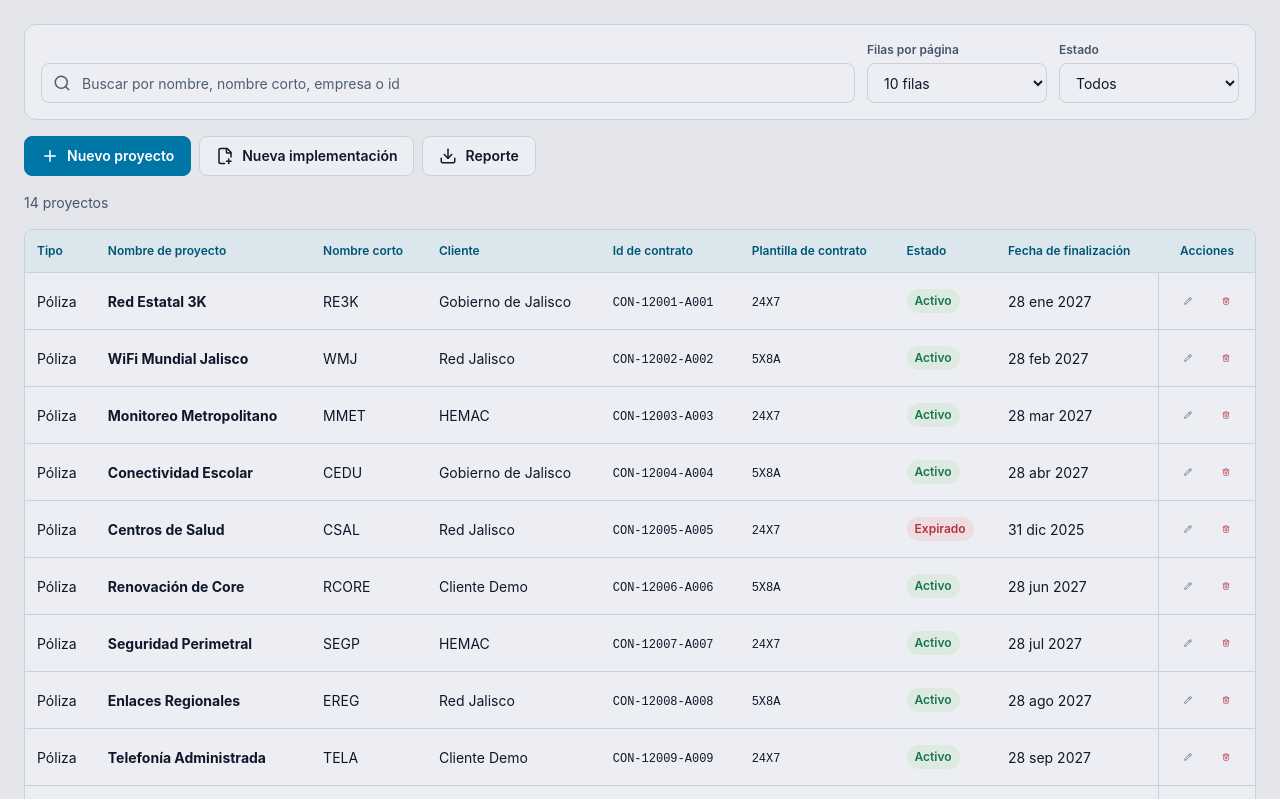
ProjectsPage › filters projects using the search and status controls
Expected: the text "14 proyectos" is shown, [24,194,108,211]
Type "WiFi Mundial" into the search field named "Buscar proyectos" at [448, 83], box [41,63,855,103]
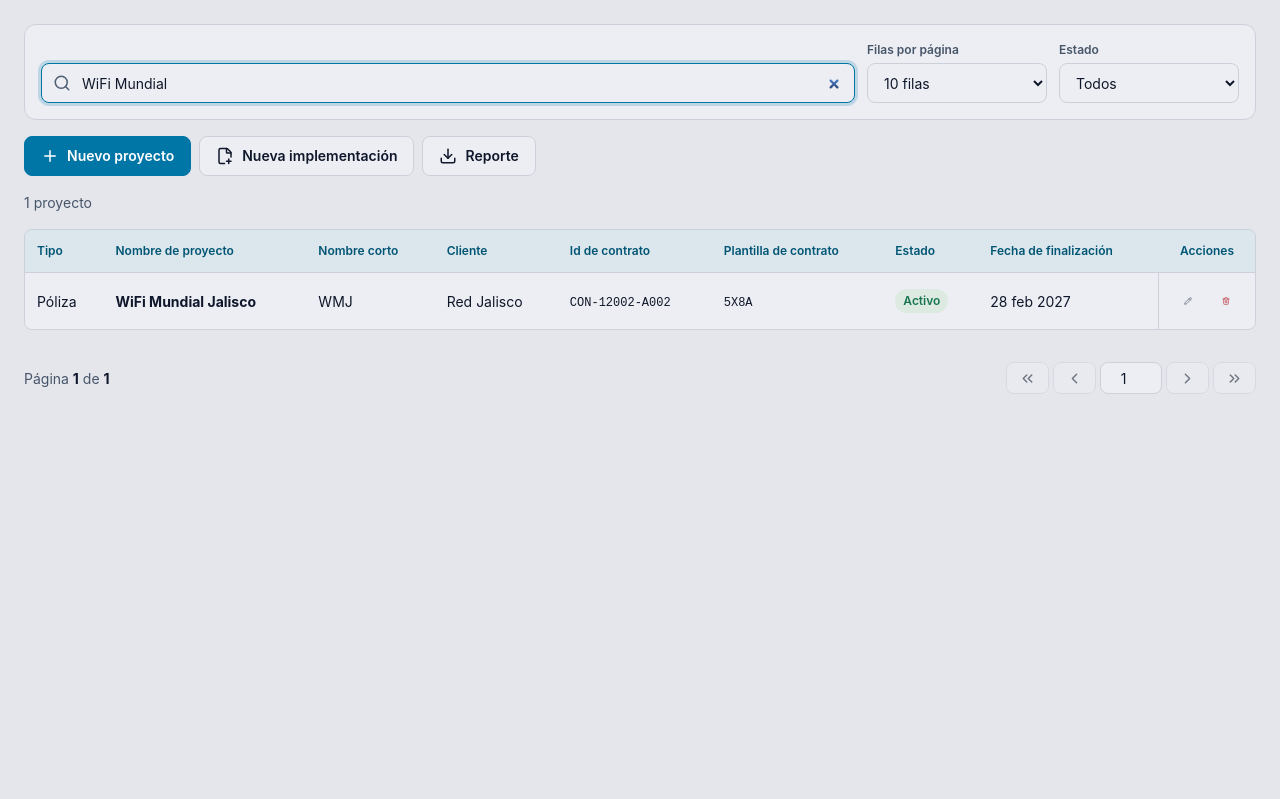
Result: the text "1 proyecto" is shown at [24,194,92,211]
Result: the text "WiFi Mundial Jalisco" is shown 2 times
Select "Expirado" in the dropdown labelled "Estado" at [1149, 83], box [1059,63,1239,103]
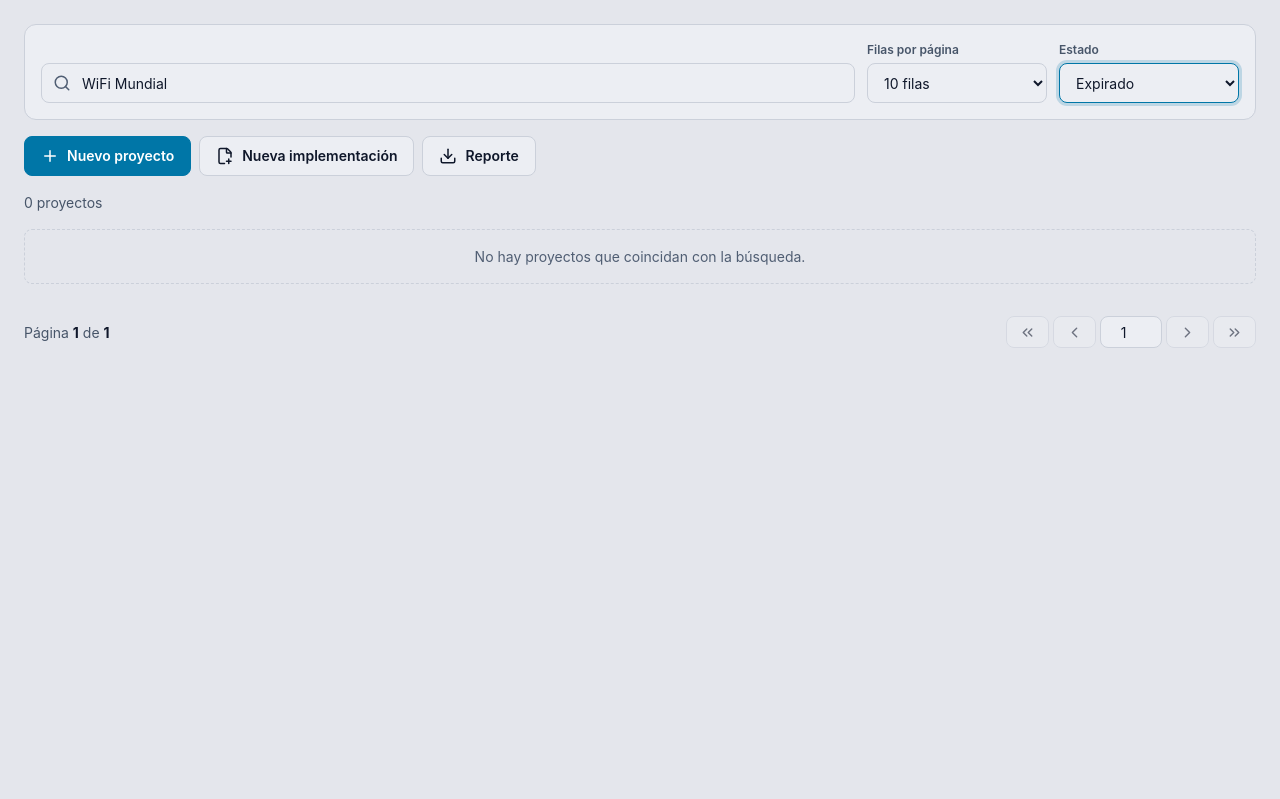
Result: the text "0 proyectos" is shown at [24,194,102,211]
